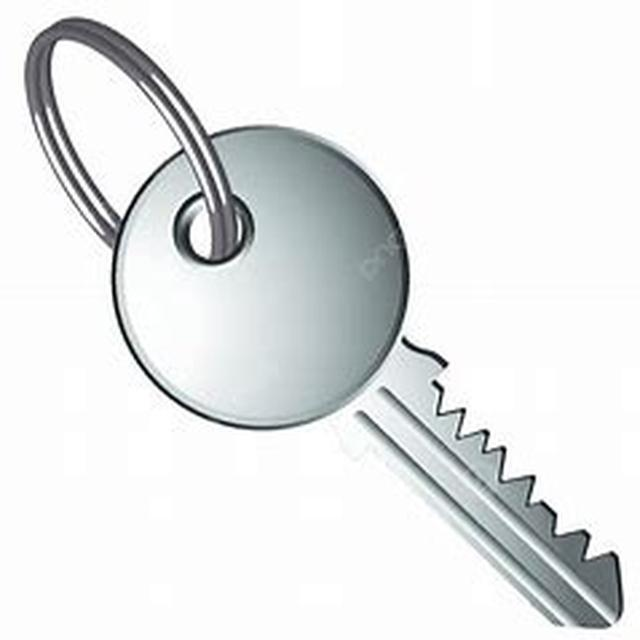key: (31, 26, 640, 639)
